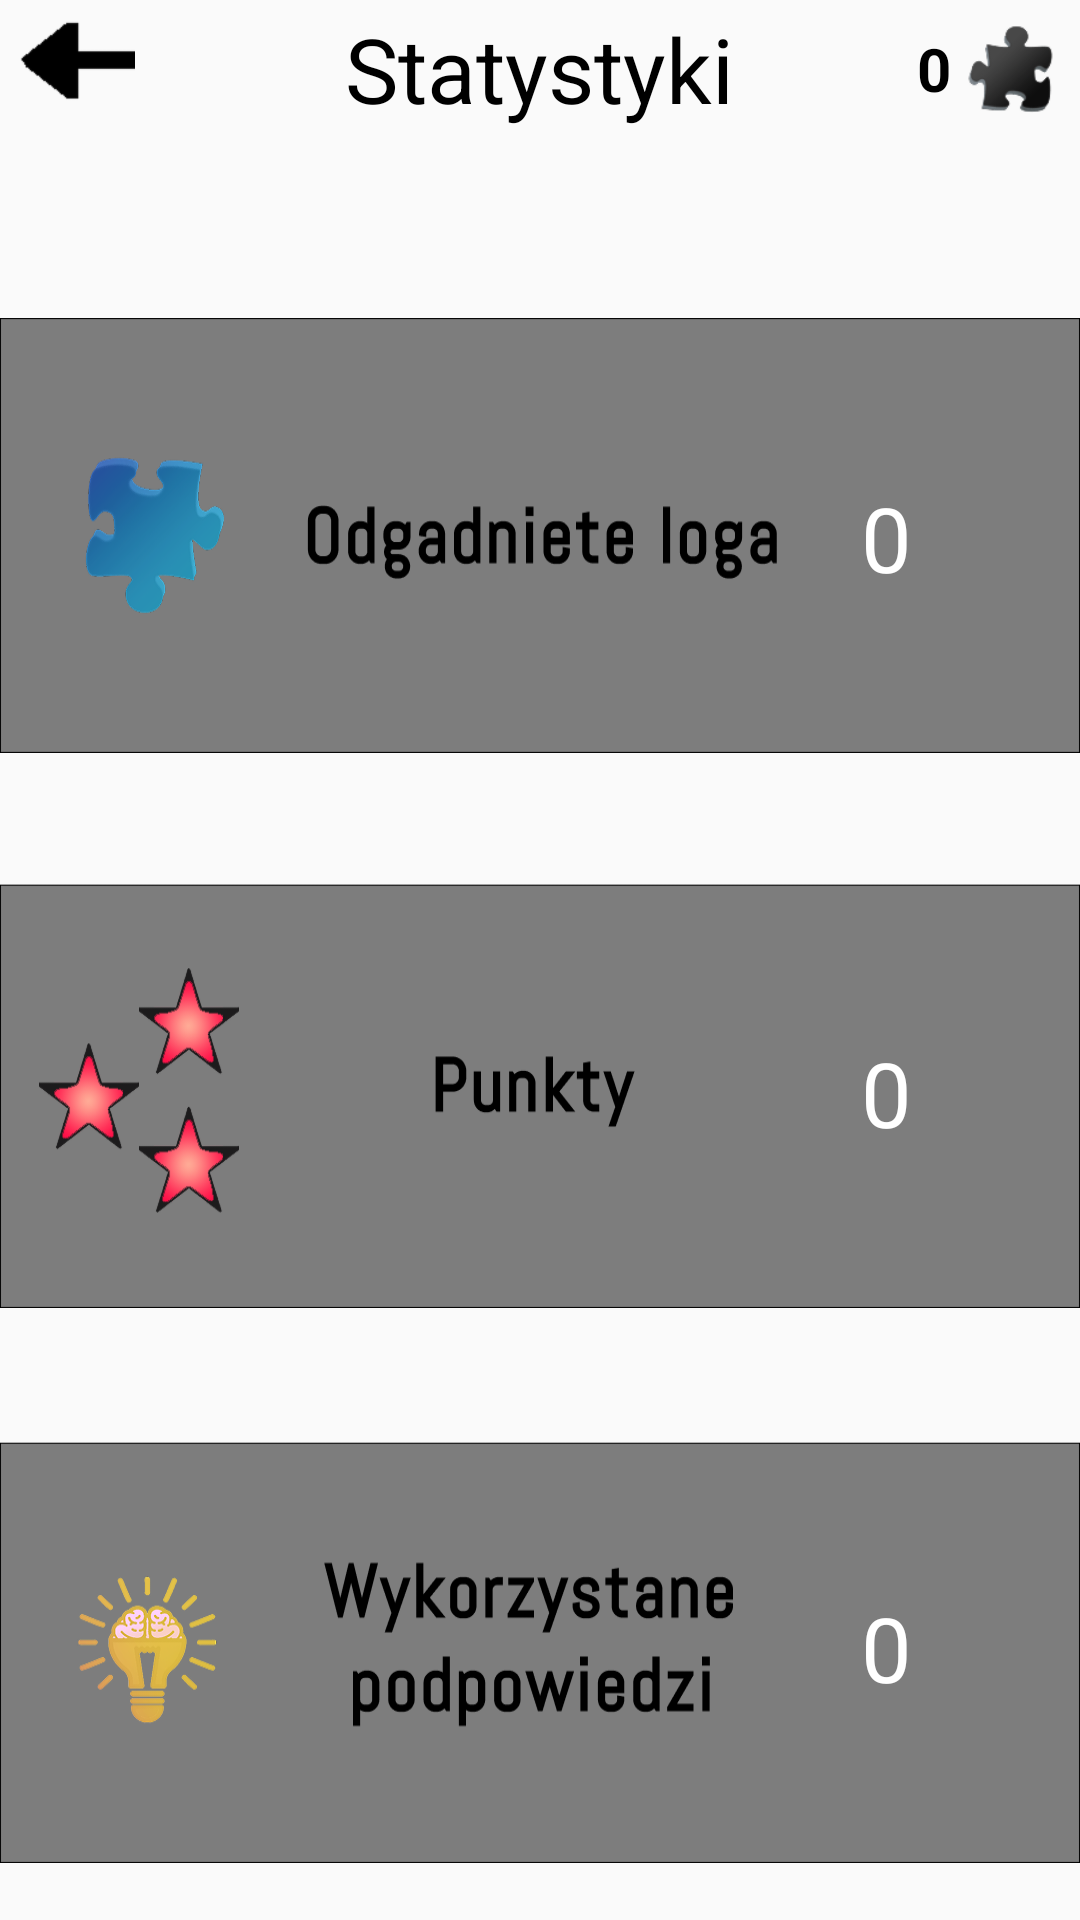

Locate icon controls on the screen. Image size 1080×1920, boxes as region(x1, y1, x2, y2).
Powrót: region(21, 22, 135, 99)
